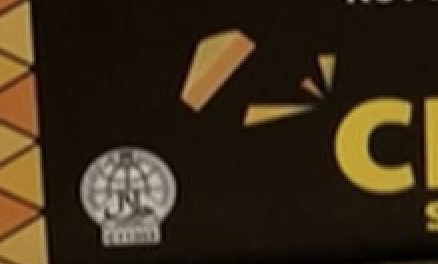halal: (94, 183, 166, 229)
